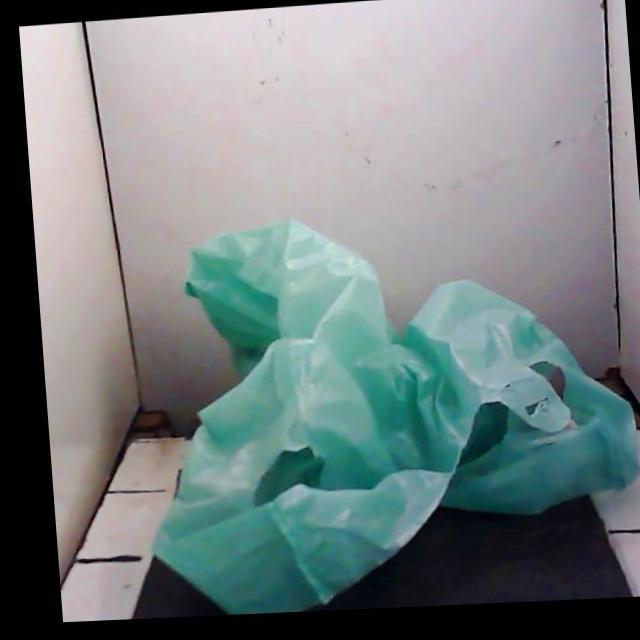plastico: (154, 222, 638, 612)
